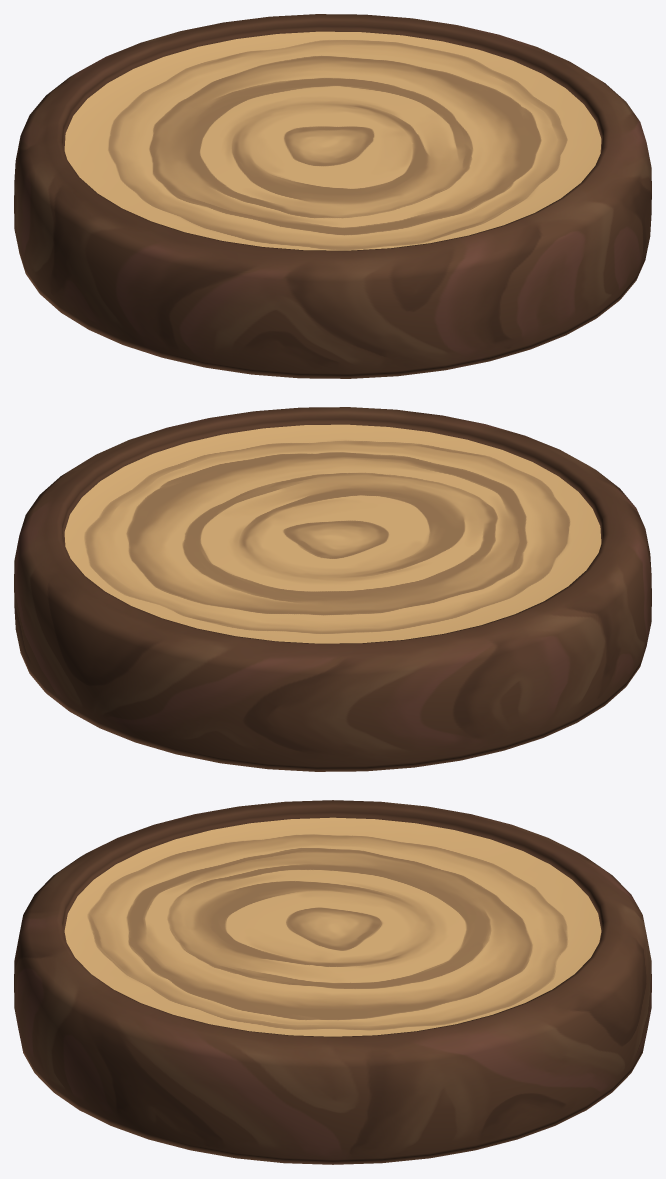
Rendered from IntersectionSlab.fbx.
3 renders of one model, top to bottom at view 1: azimuth 30°, elevation 25°; view 2: azimuth 150°, elevation 25°; view 3: azimuth 270°, elevation 25°, orthographic.
Visible parts, largest first — view 1: IntersectionSlab; view 2: IntersectionSlab; view 3: IntersectionSlab.
Part boxes in pixels (x1=…): IntersectionSlab: x1=14, y1=14, x2=651, y2=378; IntersectionSlab: x1=14, y1=407, x2=651, y2=771; IntersectionSlab: x1=14, y1=800, x2=651, y2=1164.
Size of the model in its own units: 441 by 85.03 by 441.
1 material, 1 textured.
